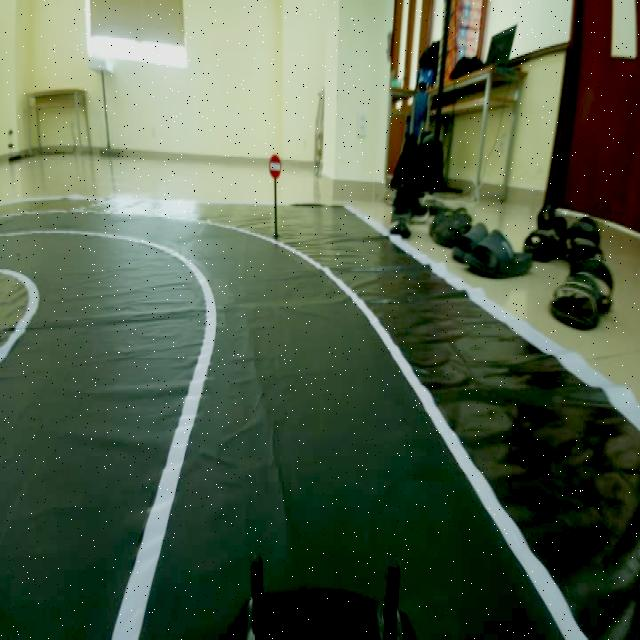no_entry: (267, 145, 287, 183)
